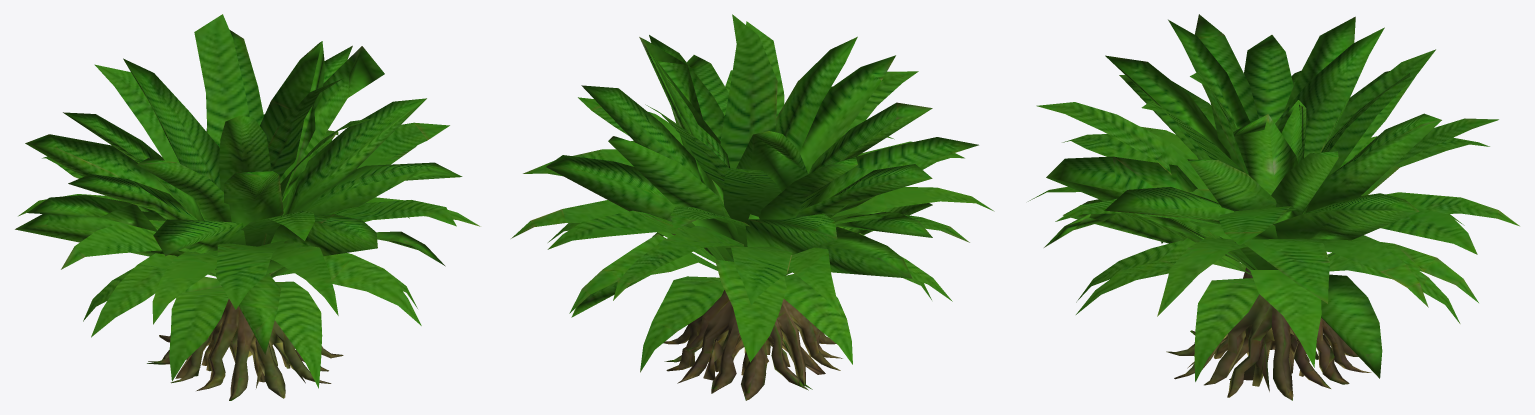
File: fern_cluster.glb
The picture shows the model from 3 angles, left to right: view 1: azimuth 30°, elevation 25°; view 2: azimuth 150°, elevation 25°; view 3: azimuth 270°, elevation 25°; orthographic projection. The views are drawn at different scales.
Size of the model in its own units: 0.9536 by 0.6738 by 0.9614.
Materials: 1 (1 with a texture image).
